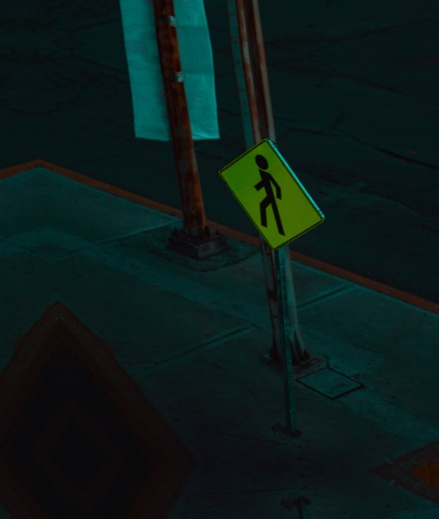Pedestrian crossing: (209, 136, 322, 236)
